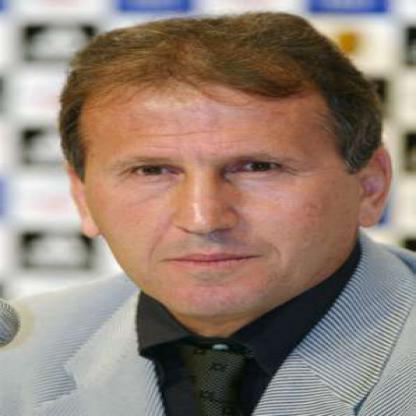face: (70, 19, 362, 320)
